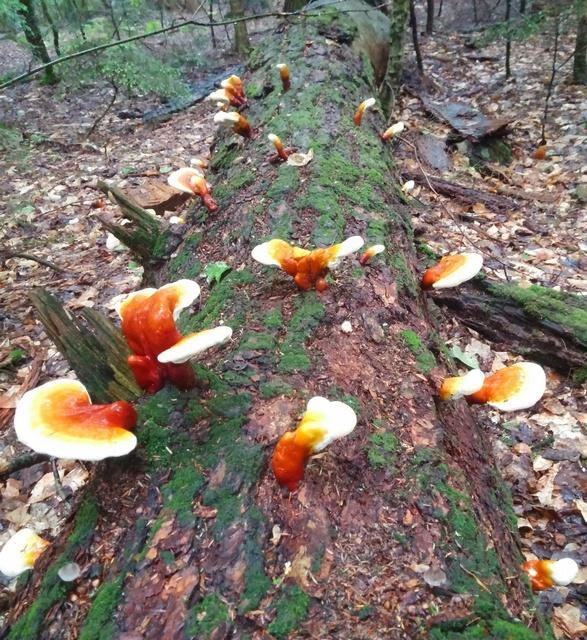poisonous_mushroom: (165, 51, 311, 216), (418, 236, 544, 413), (120, 277, 214, 404), (12, 376, 138, 462), (269, 394, 357, 491), (348, 76, 415, 201), (248, 217, 356, 290)
